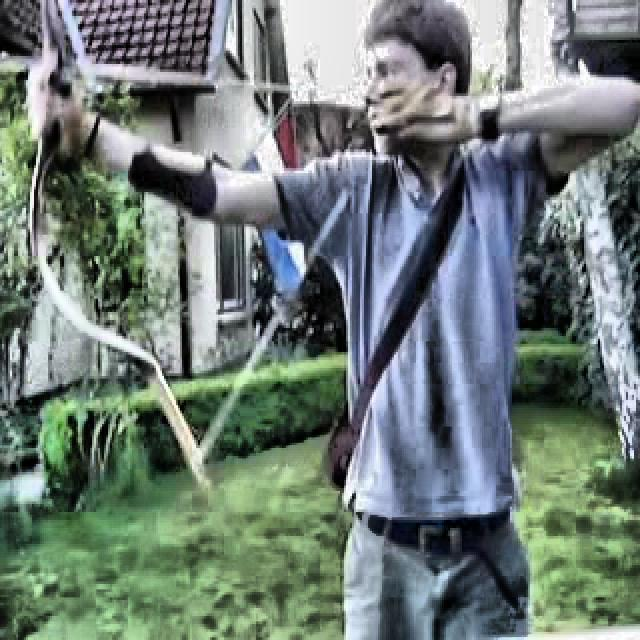P: (31, 9, 636, 634)
